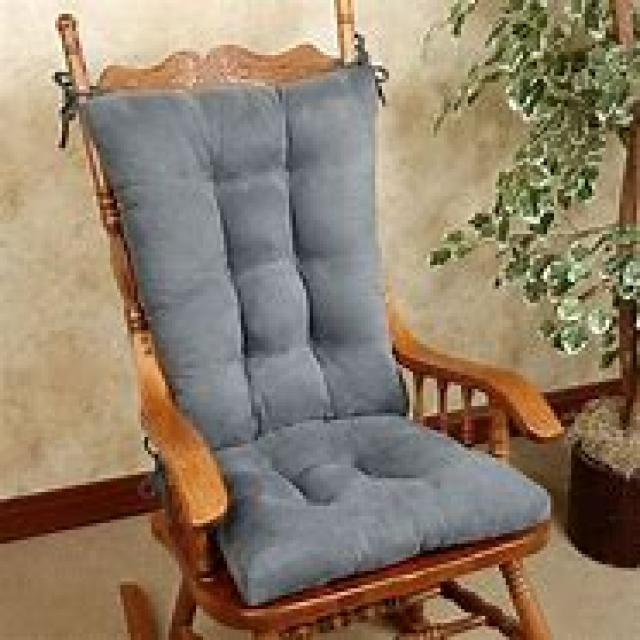chair: (52, 4, 564, 636)
